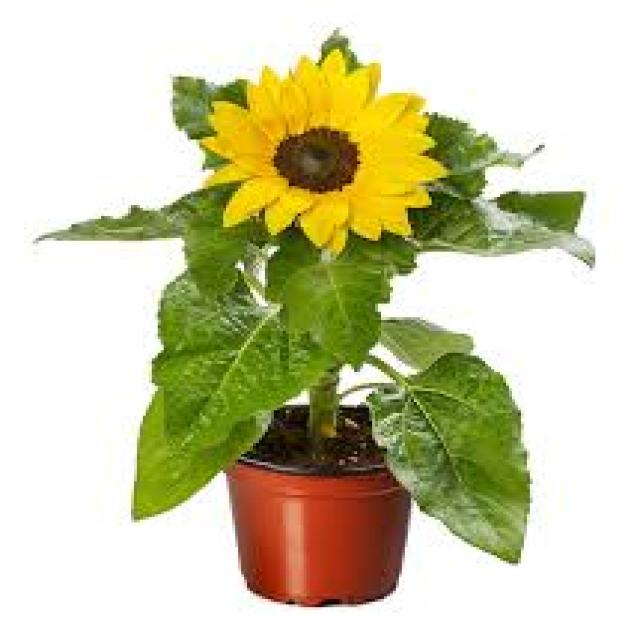sunflower: (187, 36, 467, 263)
